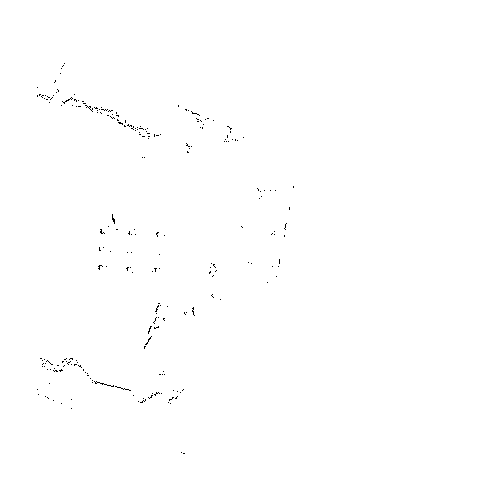pallet: (97, 227, 162, 273)
